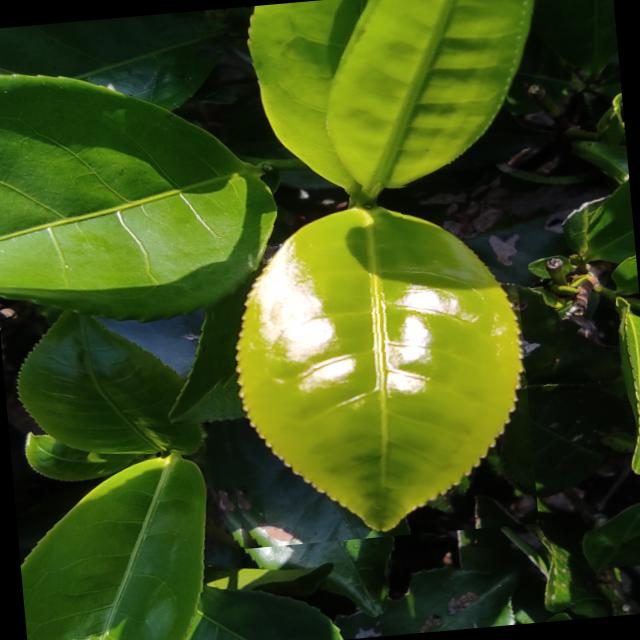Category B(2-4 days): (196, 173, 538, 549)
